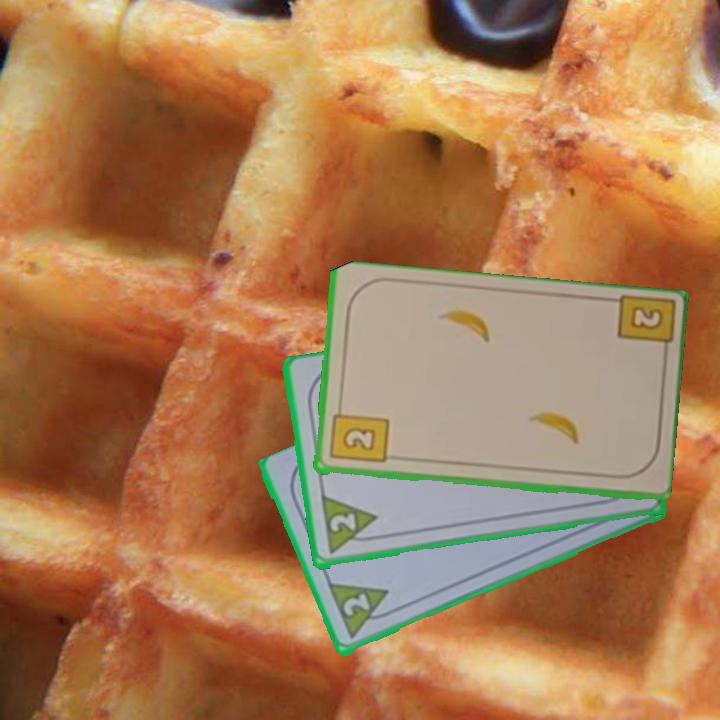2b: (326, 401, 391, 467), (613, 294, 674, 363)
2p: (317, 493, 383, 558), (339, 590, 373, 620)
